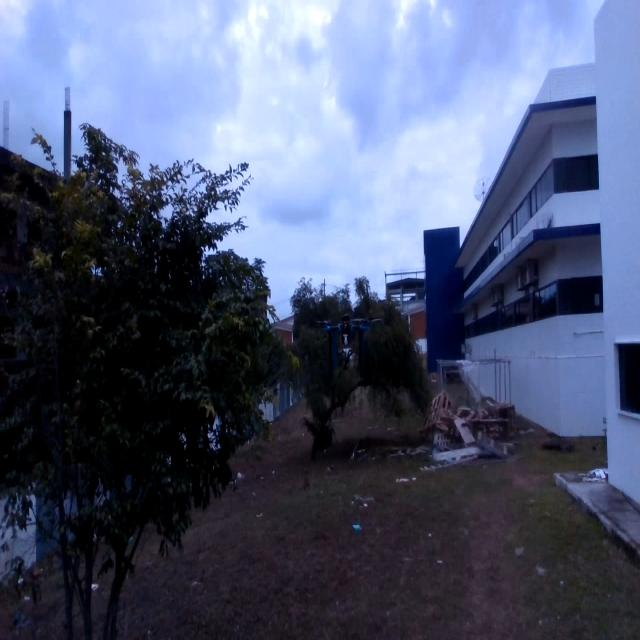-uav-: (308, 295, 392, 384)
